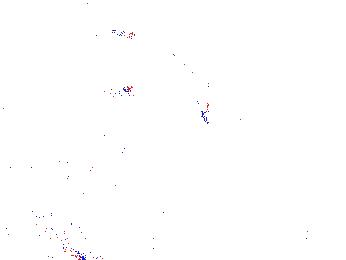glassfish: (191, 74, 214, 132)
red belly glassfish: (152, 47, 178, 61), (111, 25, 135, 40), (168, 67, 192, 78)
redtail glassfish: (84, 10, 130, 28), (101, 80, 137, 96)
siberian prawn: (28, 198, 86, 260)
